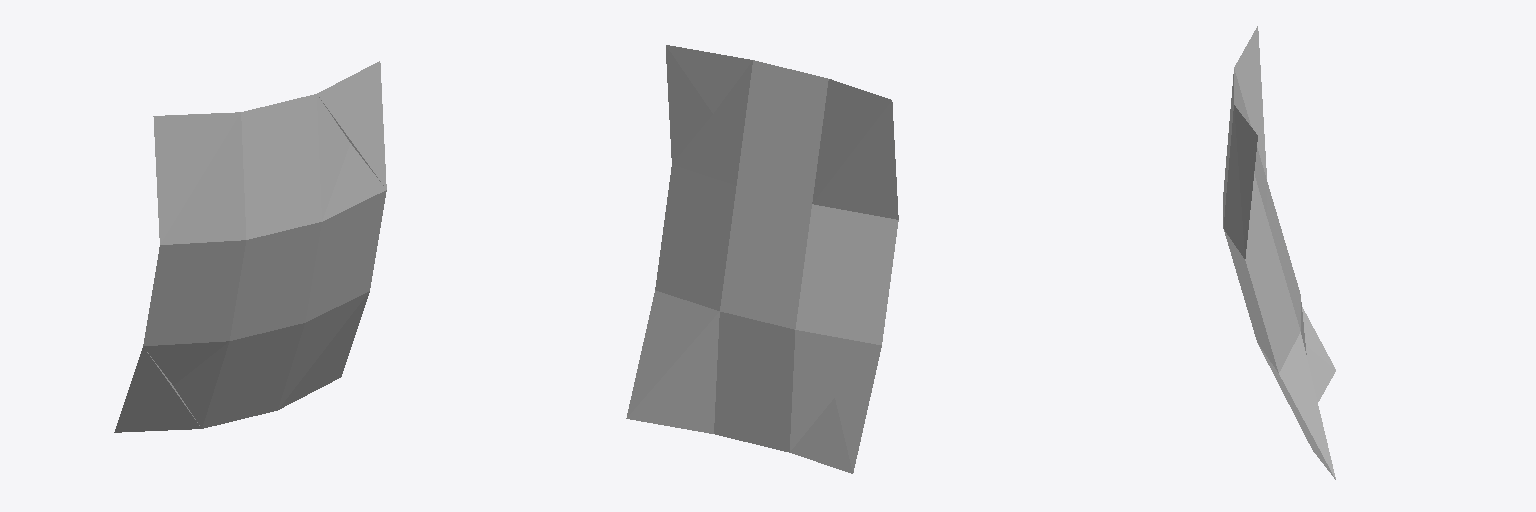
The model's file is paper.obj.
3 renders of one model, left to right at view 1: azimuth 30°, elevation 25°; view 2: azimuth 150°, elevation 25°; view 3: azimuth 270°, elevation 25°, orthographic.
Size of the model in its own units: 0.3116 by 0.4611 by 0.1344.